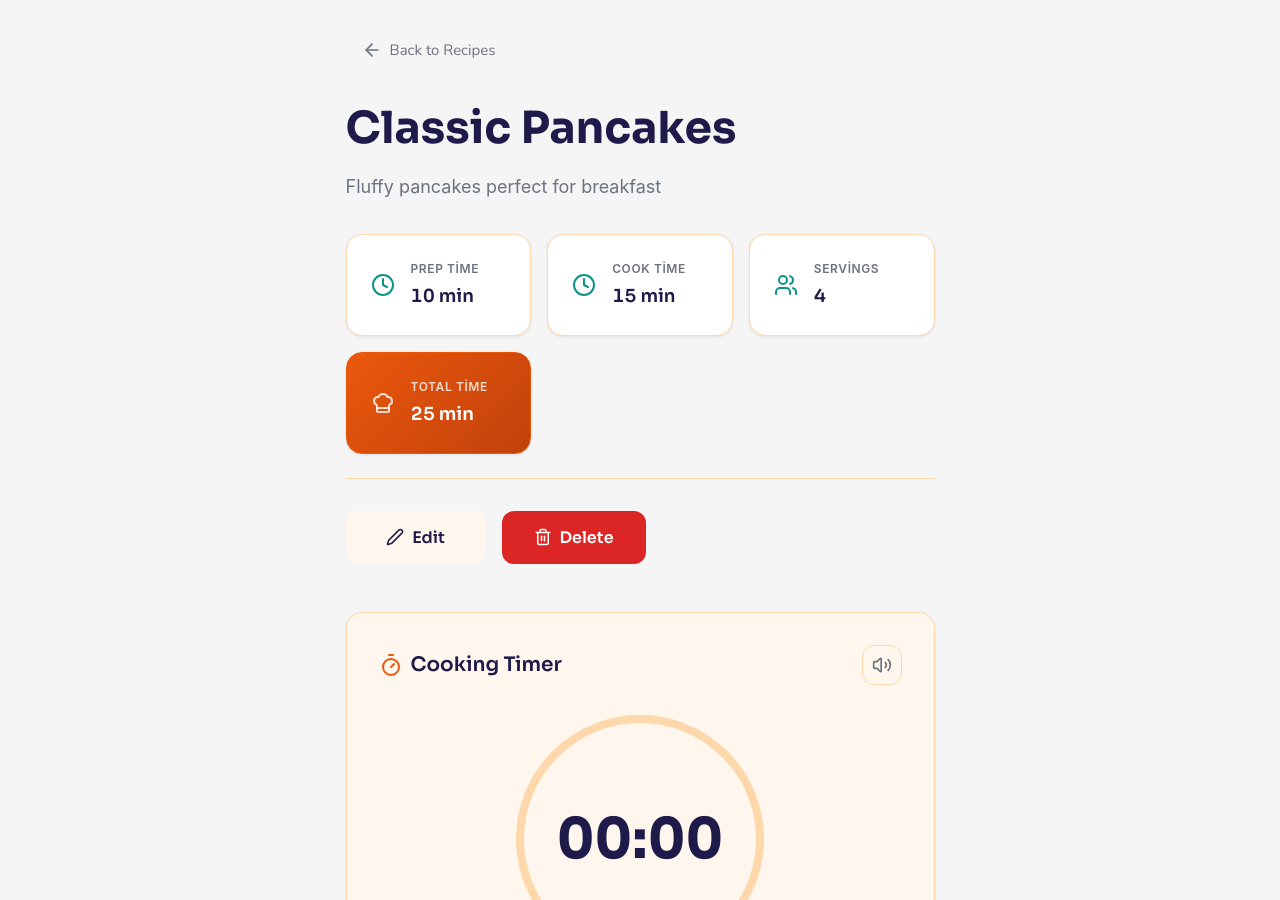
RecipeDetail Component › Delete Button › should show confirmation modal when Delete button is clicked
Click the button "Delete" at (574, 538), box [502,511,646,564]
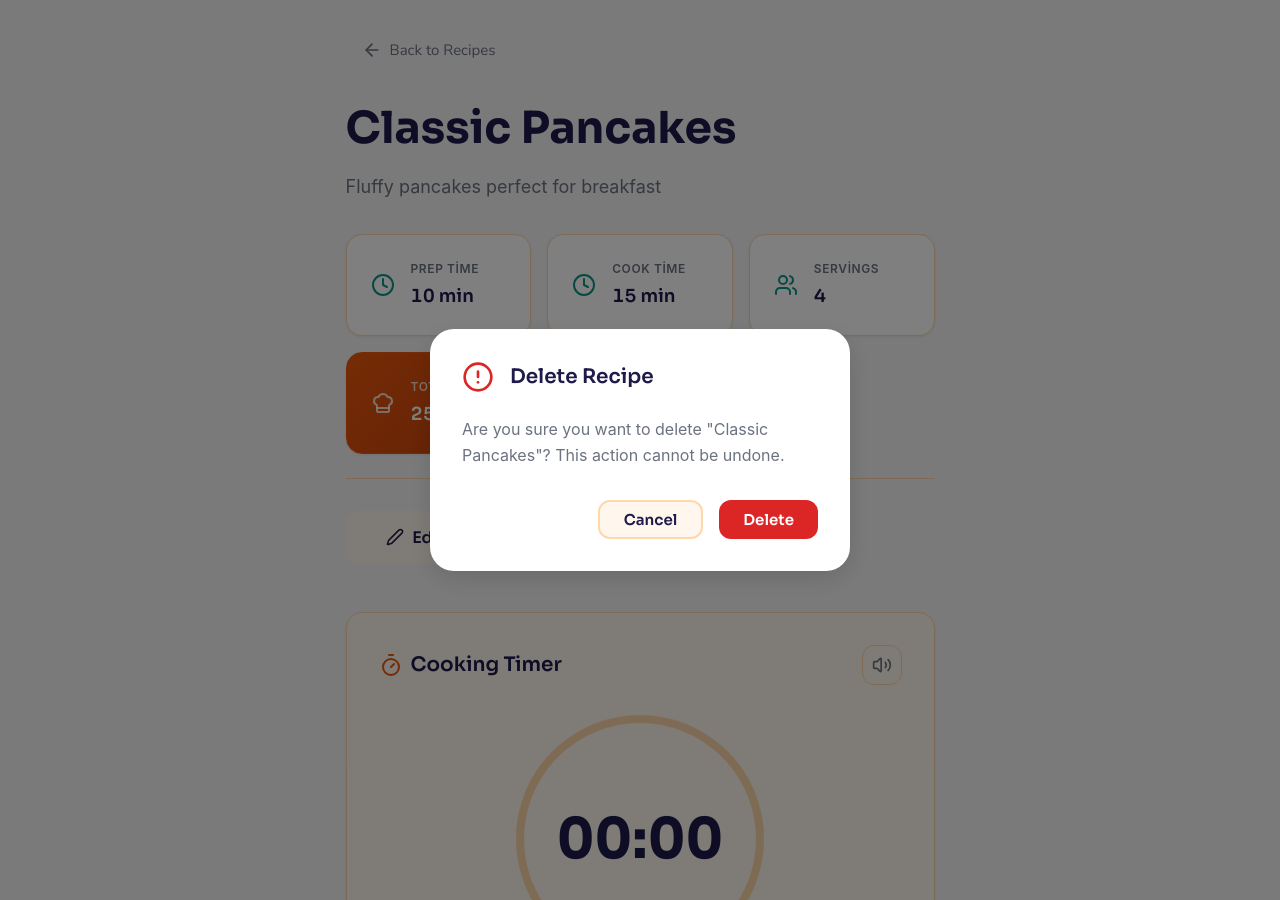
Check: the dialog is shown
Check: the heading "Delete Recipe" is shown, box [510,364,654,390]
Check: the text "Are you sure you want to delete" is shown, box [462,419,714,439]
